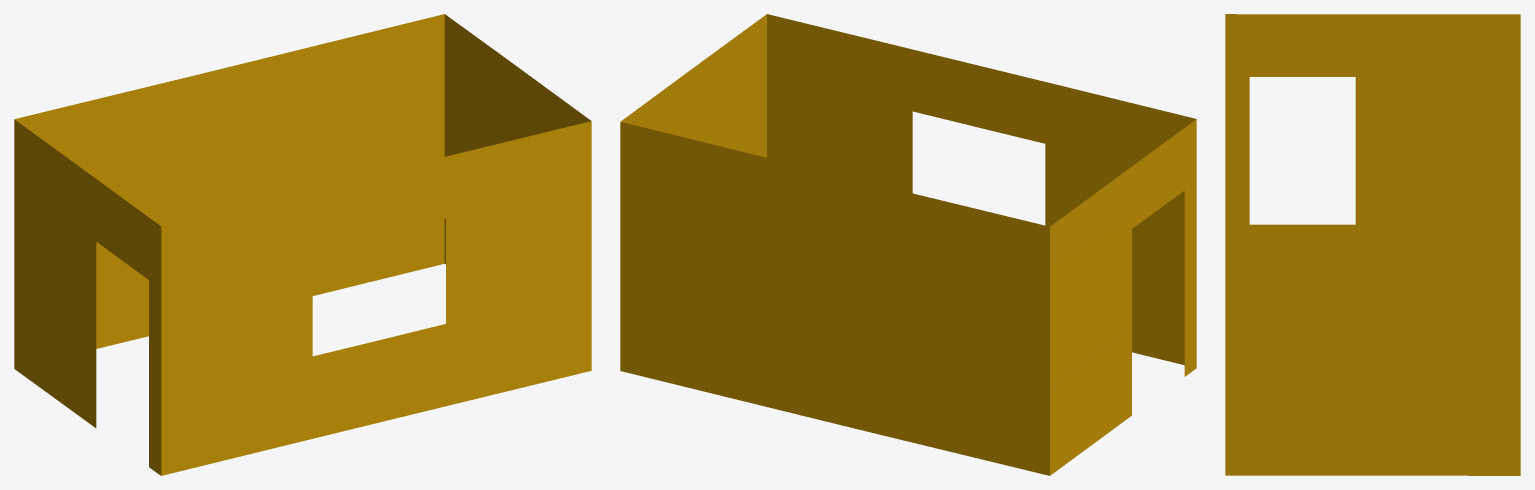
The picture shows the model from 3 angles, left to right: view 1: azimuth 30°, elevation 25°; view 2: azimuth 150°, elevation 25°; view 3: azimuth 270°, elevation 25°; orthographic projection.
Visible parts, largest first — view 1: H07C_WP_05; view 2: H07C_WP_05; view 3: H07C_WP_05.
Boxes of the visible parts, box(x1,y1,x2,y2) form: H07C_WP_05: box(14, 14, 591, 475); H07C_WP_05: box(620, 14, 1196, 475); H07C_WP_05: box(1225, 14, 1520, 475).
Size of the model in its own units: 541 by 301 by 320.
